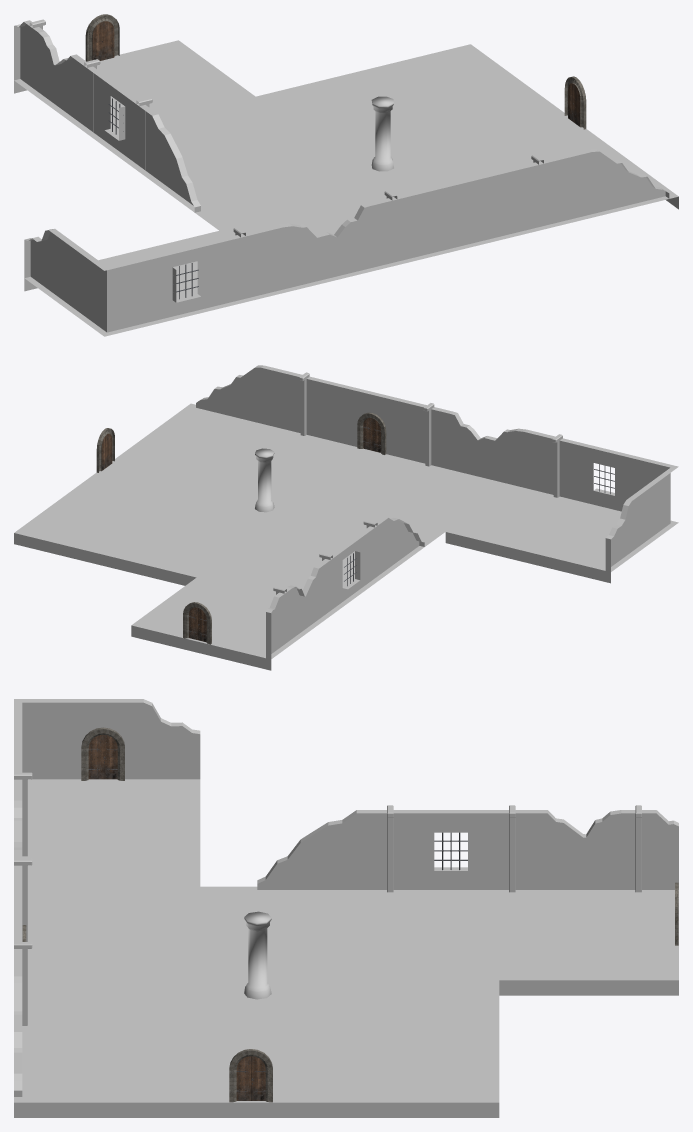
File: def006_room.fbx
3 views of the same model, one above another, from view 1: azimuth 30°, elevation 25°; view 2: azimuth 150°, elevation 25°; view 3: azimuth 270°, elevation 25° (orthographic). The views are drawn at different scales.
Parts seen in each view (by area): view 1: def006_floor, wall006_4, pillar_002.014, door_wood.022, door_stone.022, door_stone.023; view 2: def006_floor, wall006_4, pillar_002.014, door_wood.022, door_wood.024, door_stone.024, door_stone.022; view 3: def006_floor, wall006_4, pillar_002.014, door_wood.021, door_wood.023, door_stone.023, door_stone.021.
Boxes of the visible parts, x1,y1,x2,y2 form: def006_floor: [14, 40, 678, 336]; wall006_4: [14, 20, 669, 332]; pillar_002.014: [371, 96, 393, 171]; door_wood.022: [92, 21, 114, 60]; door_stone.022: [85, 14, 119, 61]; door_stone.023: [564, 76, 586, 129]; def006_floor: [14, 403, 678, 670]; wall006_4: [196, 365, 678, 659]; pillar_002.014: [255, 448, 274, 512]; door_wood.022: [189, 607, 206, 642]; door_wood.024: [363, 418, 380, 452]; door_stone.024: [357, 412, 386, 454]; door_stone.022: [183, 602, 211, 644]; def006_floor: [14, 779, 678, 1117]; wall006_4: [14, 699, 678, 1096]; pillar_002.014: [244, 911, 271, 999]; door_wood.021: [88, 734, 117, 779]; door_wood.023: [236, 1056, 265, 1100]; door_stone.023: [229, 1049, 272, 1102]; door_stone.021: [81, 727, 124, 780].
Size of the model in its own units: 4568 by 629 by 3927.
